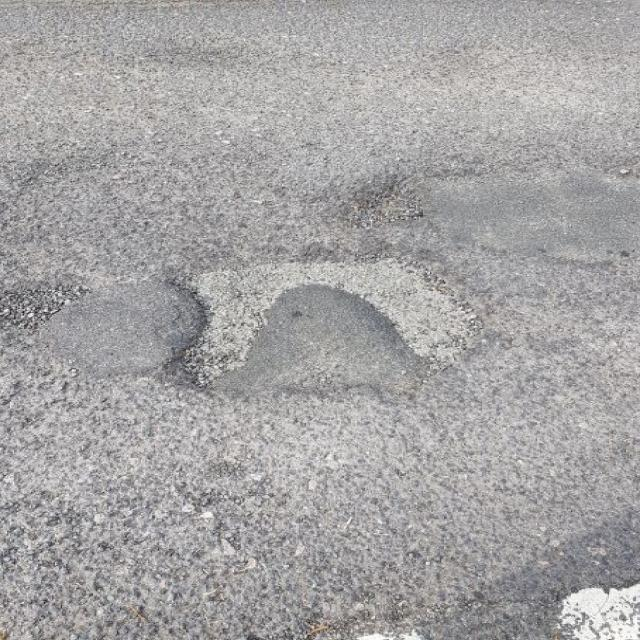pothole: (155, 248, 495, 386)
